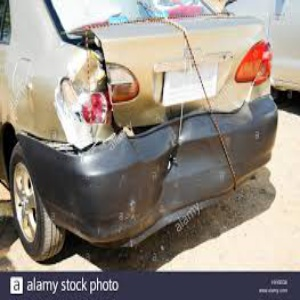bonnet: (59, 38, 184, 136)
